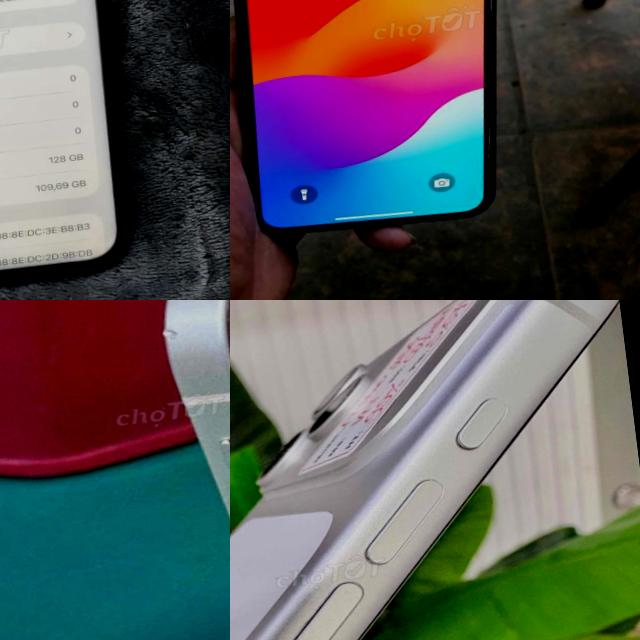gen_12_13: (0, 0, 151, 300), (132, 300, 230, 640)
gen_17: (230, 300, 618, 640), (299, 300, 476, 474)
gen_x_xs: (235, 0, 496, 232)
